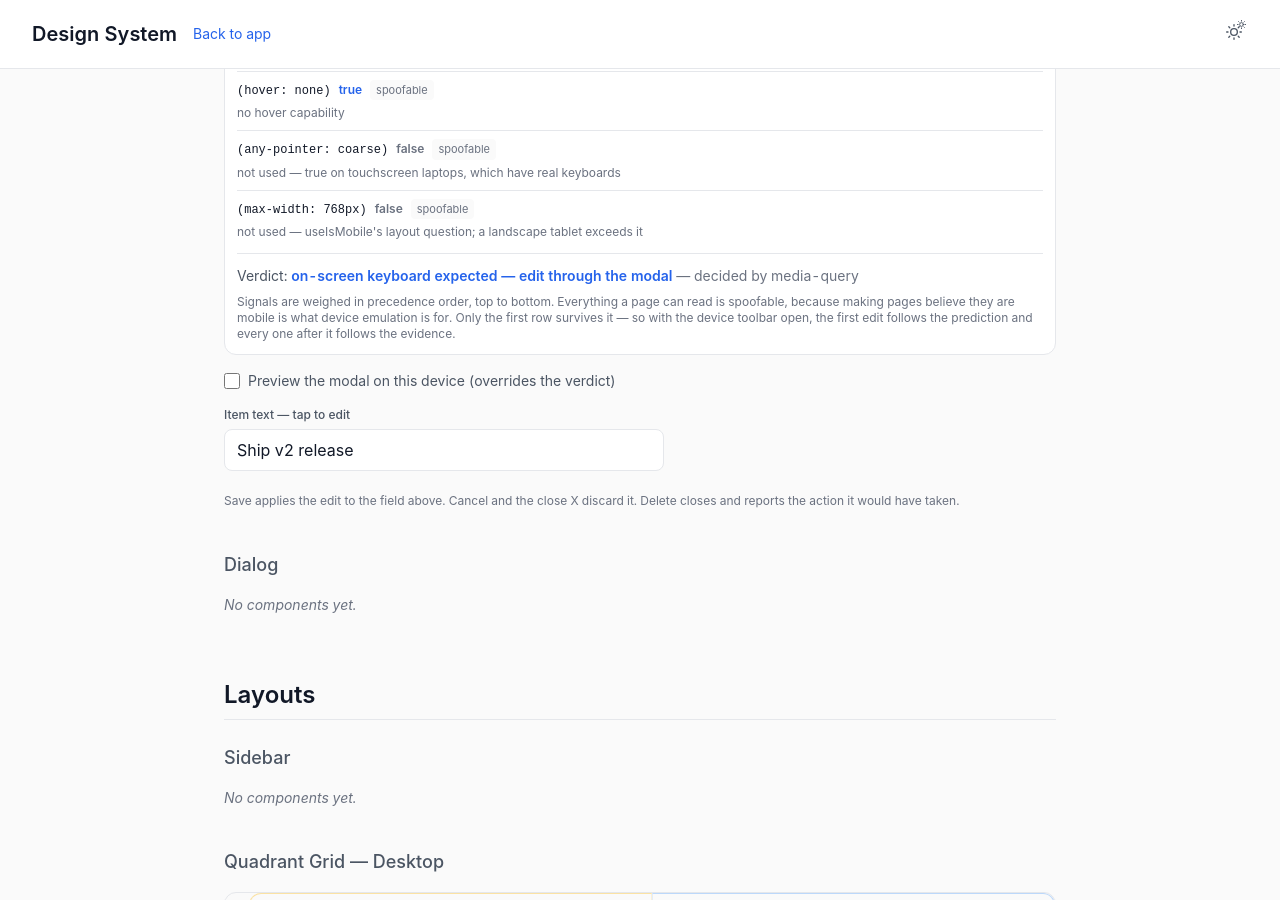
Scenario: DesignSystem — Edit Modal gated on on-screen-keyboard detection › saves through the modal back into the field
(page scrolled)
Click the field labelled "Item text — tap to edit".
click(444, 450)  # box [224,429,664,471]
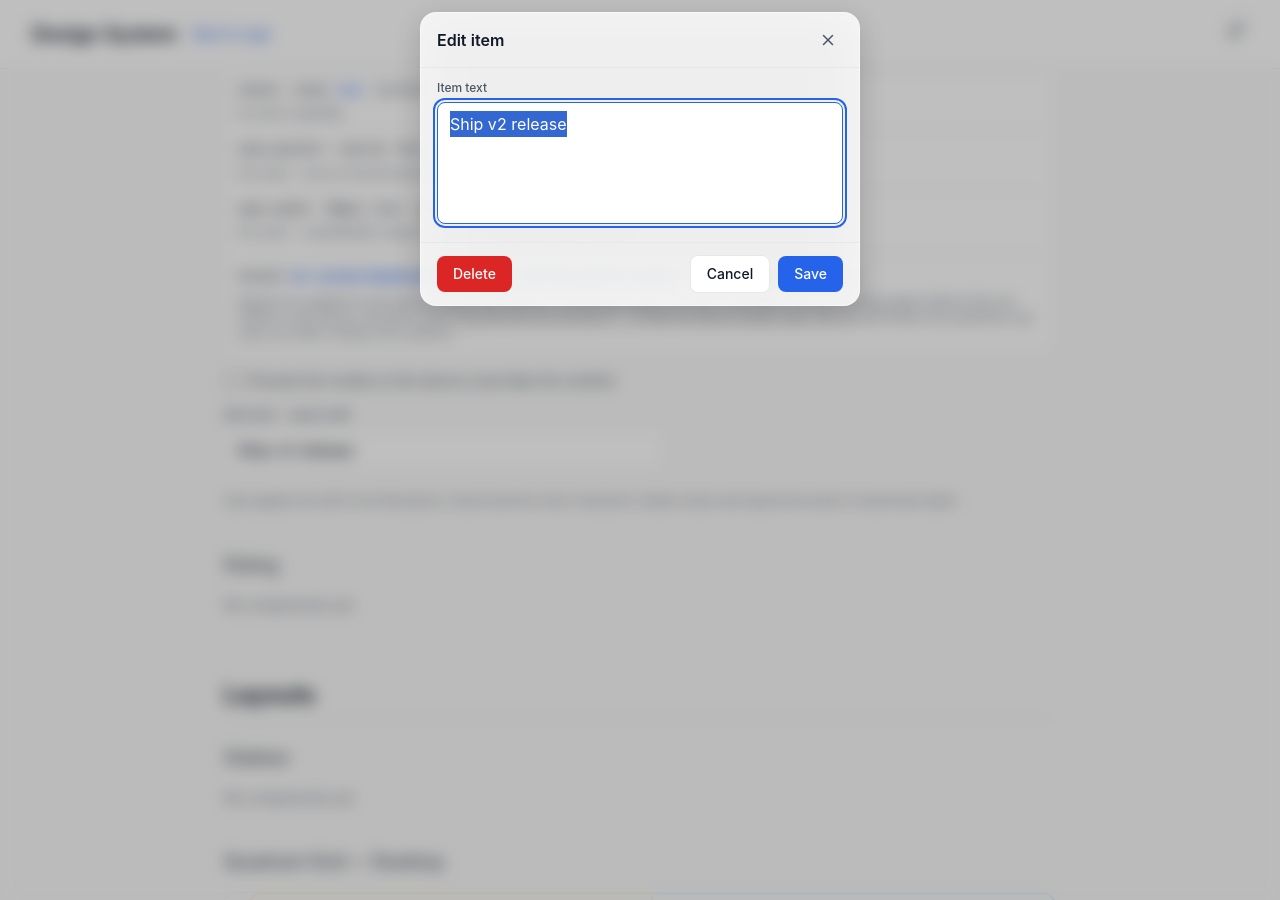
Replace the text in the text box labelled "Item text" with "Ship v3 release" at (640, 163), box [437,102,843,224]
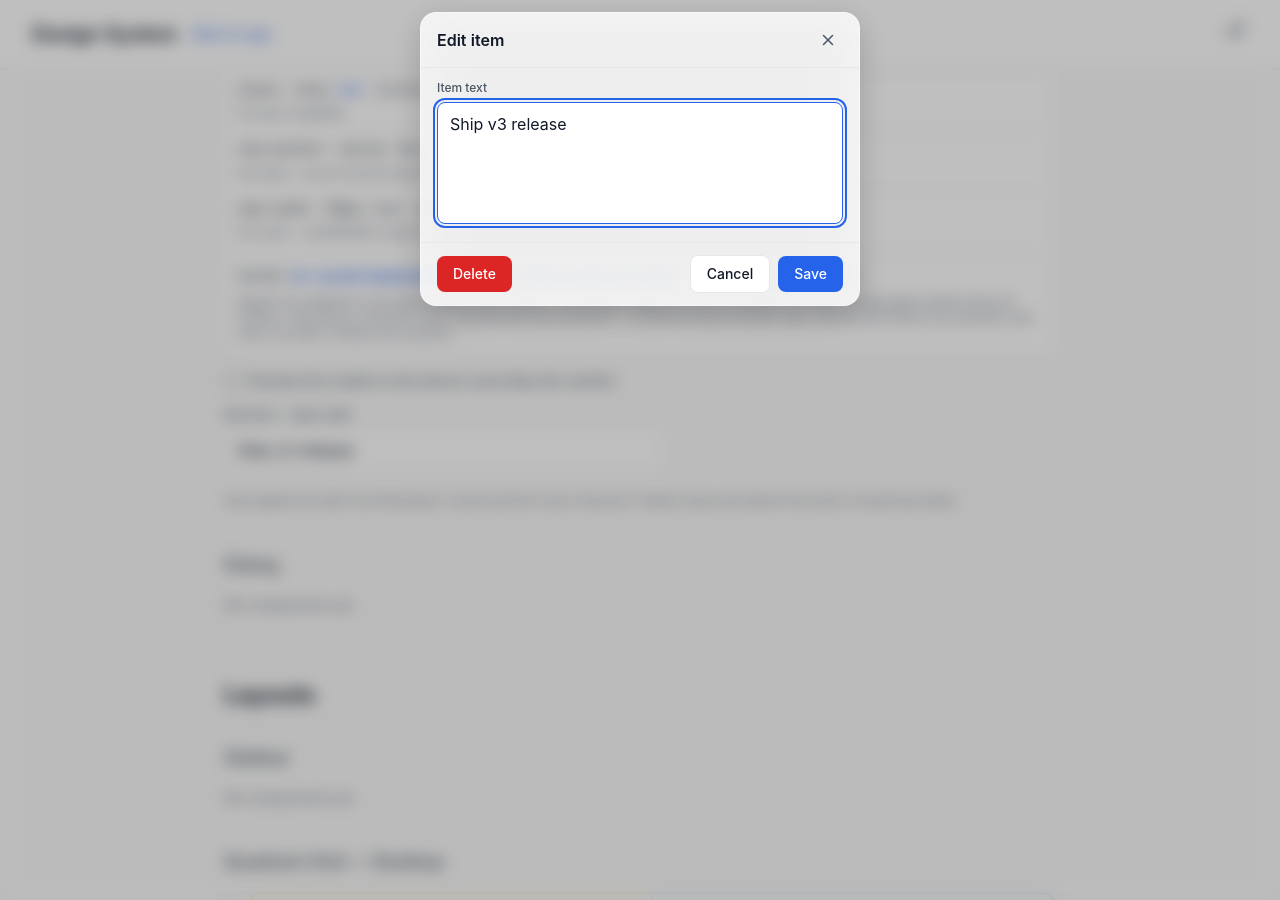
Click the button "Save".
click(811, 274)  # box [778,256,843,292]
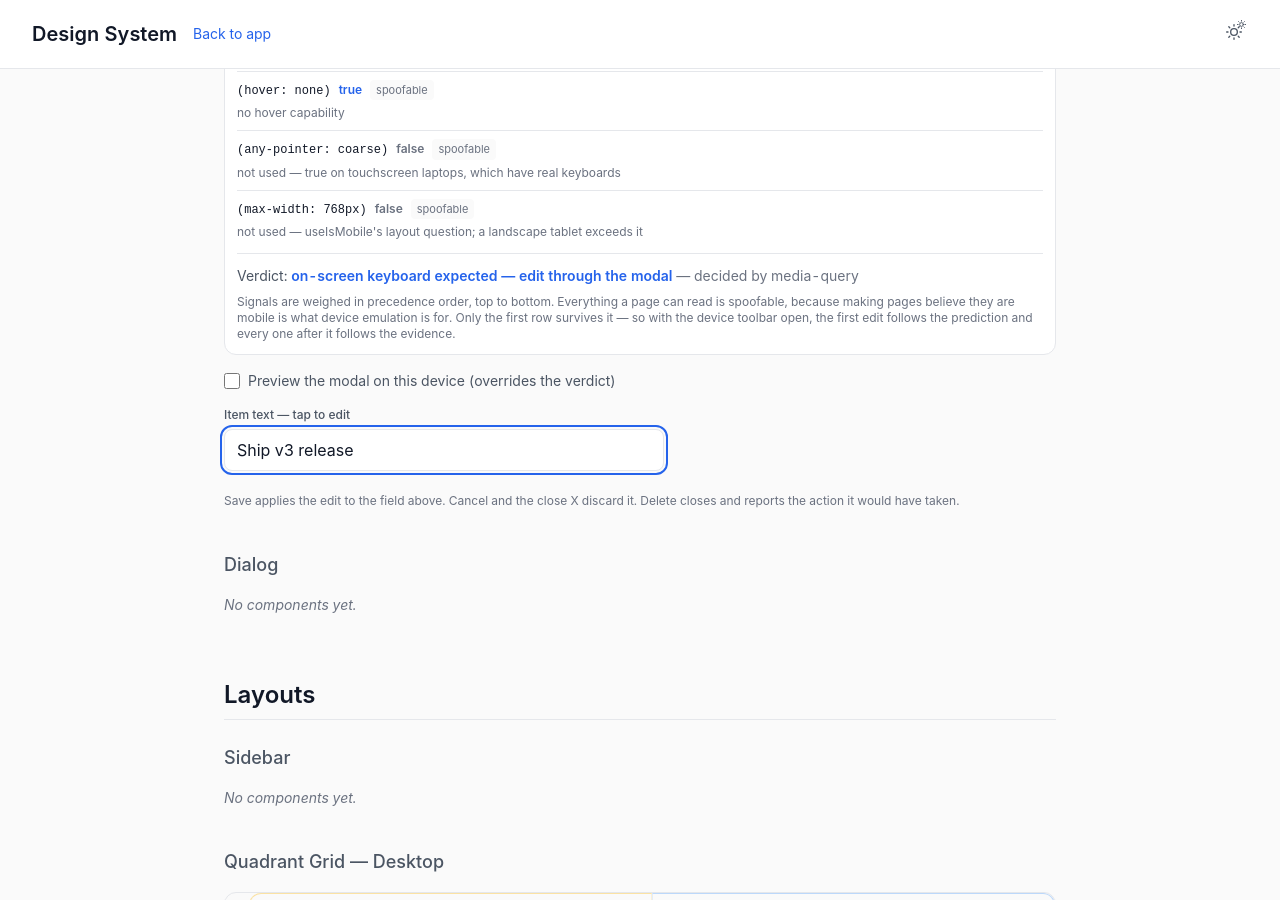
Now the dialog is gone
Now the field labelled "Item text — tap to edit" holds "Ship v3 release", box [224,429,664,471]
